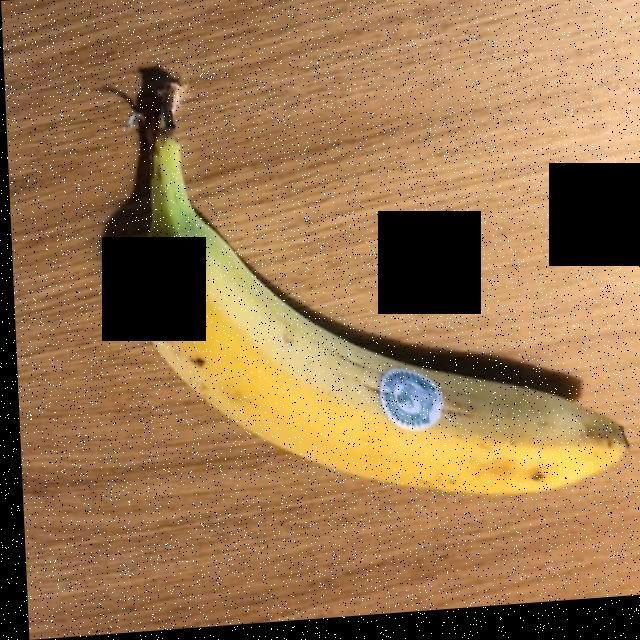banana: (129, 102, 614, 505)
